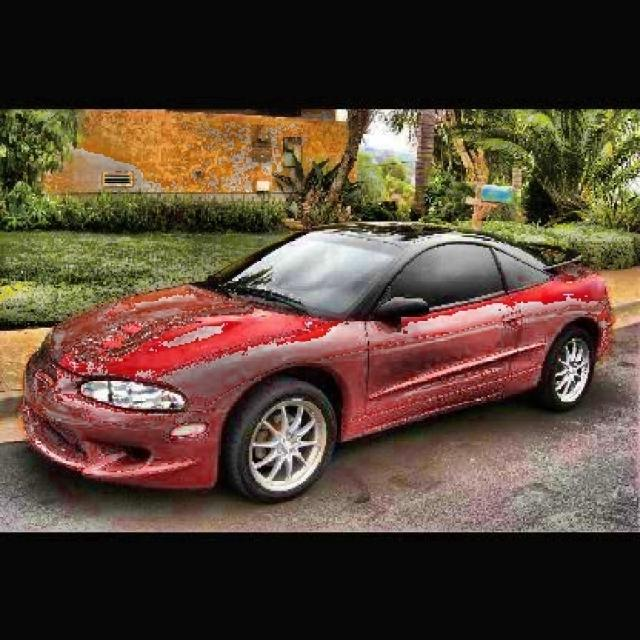maroon: (25, 222, 620, 500)
